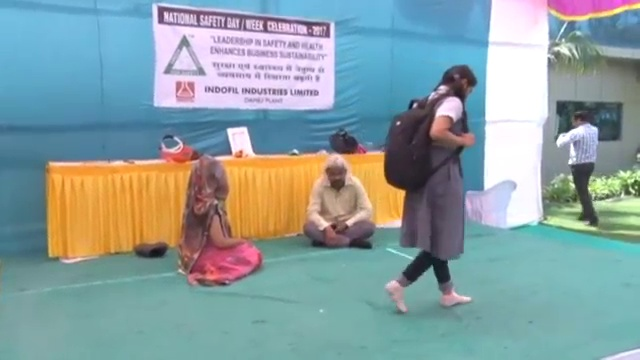helmet_off: (186, 158, 230, 202), (440, 63, 477, 99), (323, 156, 348, 190), (570, 110, 590, 126)
person: (382, 62, 477, 315), (178, 158, 262, 289), (305, 156, 374, 249), (556, 110, 601, 224)
